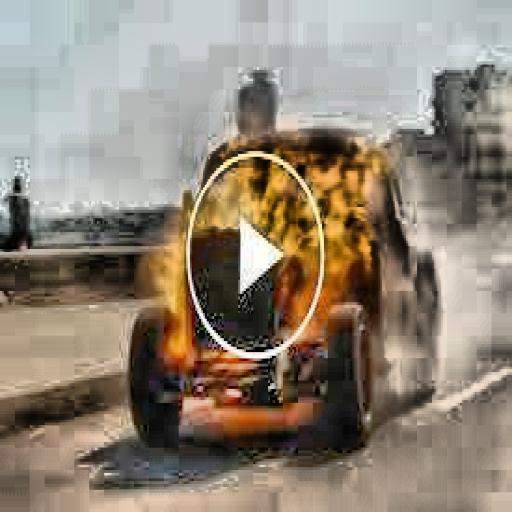fire: (158, 137, 410, 369)
